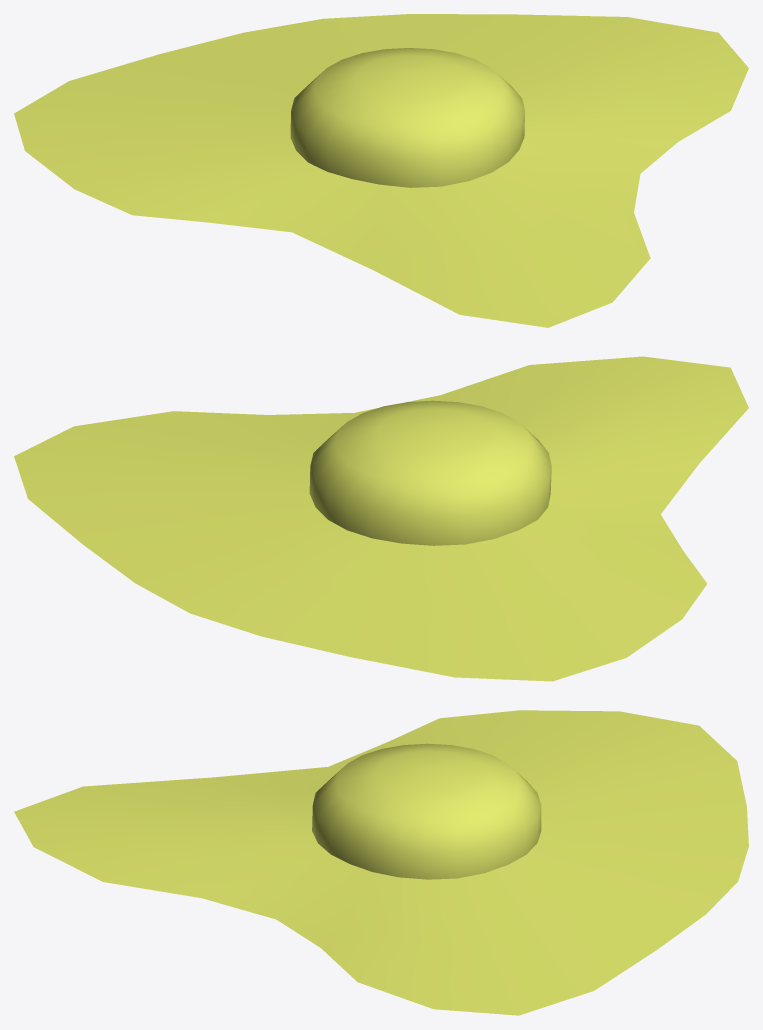
The model's file is Egg.fbx.
3 renders of one model, top to bottom at view 1: azimuth 30°, elevation 25°; view 2: azimuth 150°, elevation 25°; view 3: azimuth 270°, elevation 25°, orthographic. The views are drawn at different scales.
Parts seen in each view (by area): view 1: Egg; view 2: Egg; view 3: Egg.
Boxes of the visible parts, bbox=[...] form: Egg: bbox=[14, 14, 748, 327]; Egg: bbox=[14, 356, 748, 681]; Egg: bbox=[14, 710, 748, 1015].
Size of the model in its own units: 25.93 by 3.12 by 26.4.
